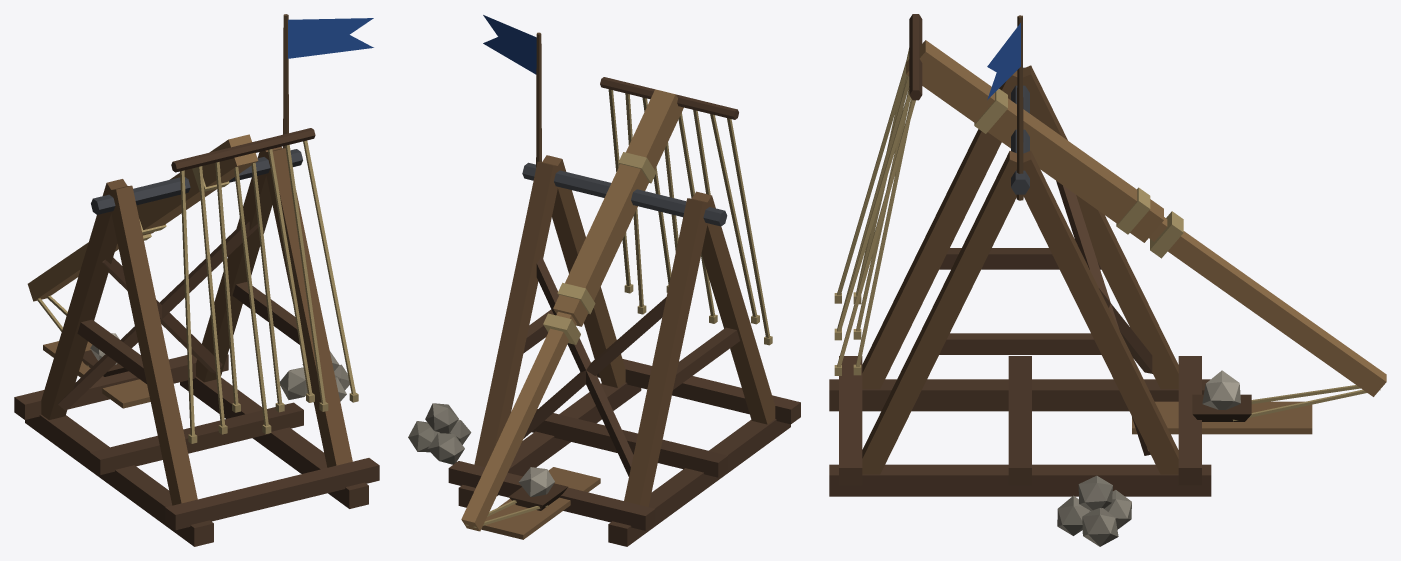
The model's file is trebuchet.glb.
3 renders of one model, left to right at view 1: azimuth 30°, elevation 25°; view 2: azimuth 150°, elevation 25°; view 3: azimuth 270°, elevation 25°, orthographic. The views are drawn at different scales.
Visible parts, largest first — view 1: trebuchet; view 2: trebuchet; view 3: trebuchet.
Part boxes in pixels (x1,y1,x2,y2): trebuchet: [14, 14, 379, 546]; trebuchet: [408, 15, 800, 546]; trebuchet: [829, 14, 1386, 546].
Size of the model in its own units: 3.53 by 5 by 5.25.
